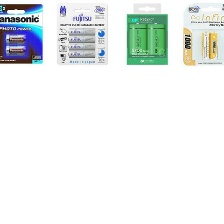battery: (126, 21, 150, 56), (147, 21, 166, 57), (208, 31, 220, 60), (5, 31, 29, 45), (66, 26, 98, 36), (65, 49, 96, 59), (4, 44, 27, 57), (68, 34, 97, 44), (202, 28, 210, 62), (67, 43, 98, 51)
book: (53, 0, 111, 67), (122, 2, 170, 67), (0, 1, 45, 65), (182, 0, 224, 67)
